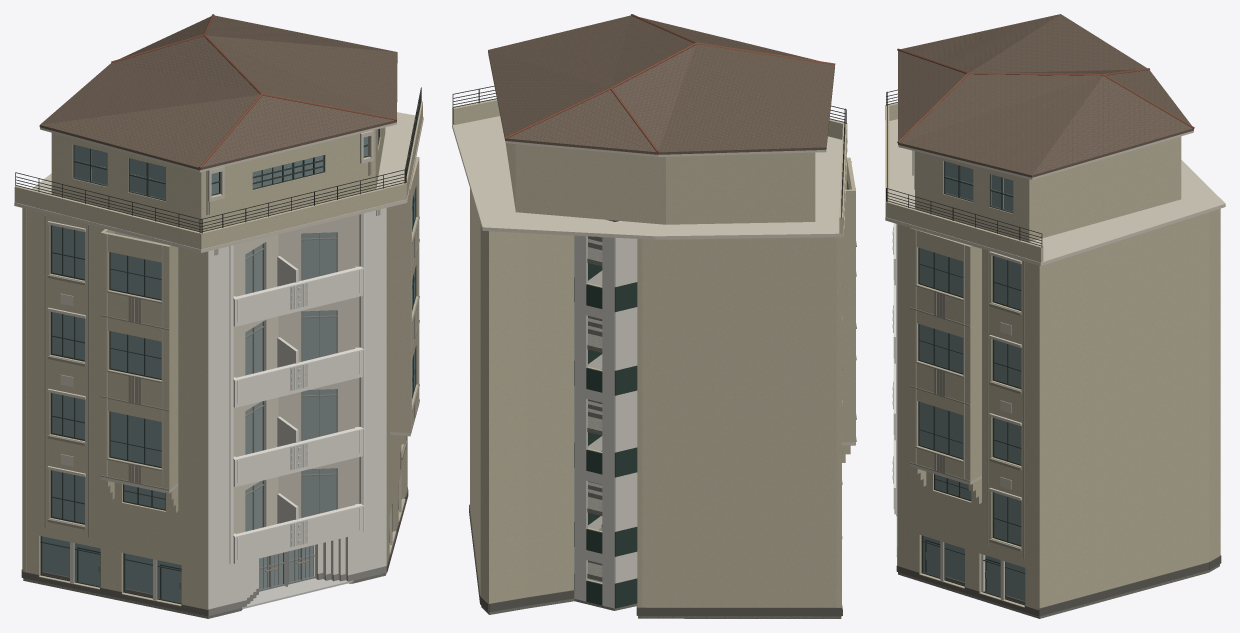
File: xuhui-baisaizhong-apartments-fuxing-road-corner-lod.glb
3 renders of one model, left to right at view 1: azimuth 30°, elevation 25°; view 2: azimuth 150°, elevation 25°; view 3: azimuth 270°, elevation 25°, orthographic. The views are drawn at different scales.
Parts seen in each view (by area): view 1: 白赛仲公寓; view 2: 白赛仲公寓; view 3: 白赛仲公寓.
Boxes of the visible parts, x1,y1,x2,y2 form: 白赛仲公寓: [14, 14, 423, 618]; 白赛仲公寓: [452, 14, 856, 618]; 白赛仲公寓: [885, 14, 1225, 618].
Size of the model in its own units: 18.27 by 21.35 by 14.14.
Materials: 22 (3 with a texture image).
